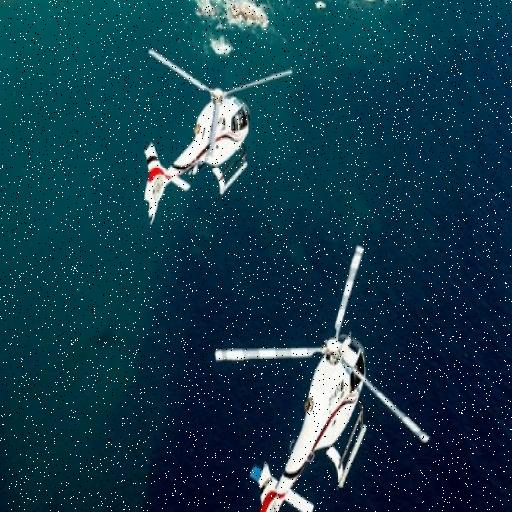helicopter: (218, 249, 436, 512), (146, 50, 264, 233)
